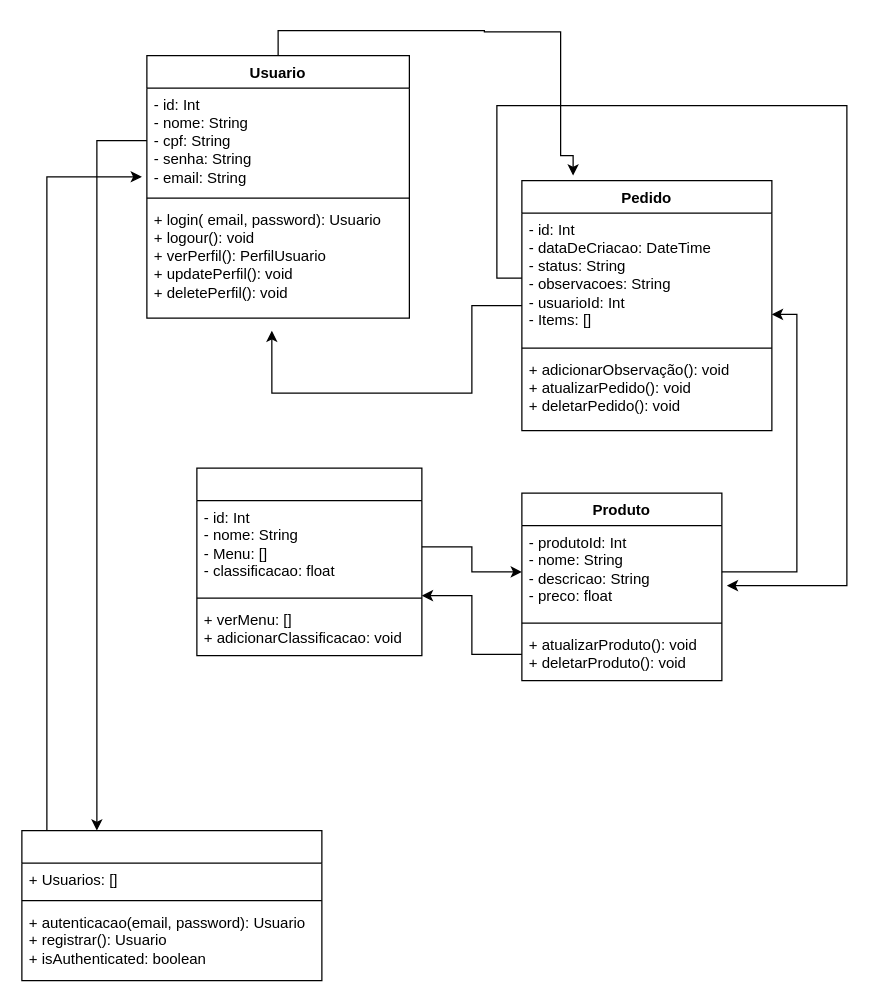
This 879x1006 diagram has some shape labels left out. The box of each missing label's shape, as (x1, y1, x2, y2) in pixels:
Restaurante: (196, 467, 422, 656)
ServicodeAutenticacao: (21, 829, 322, 981)
